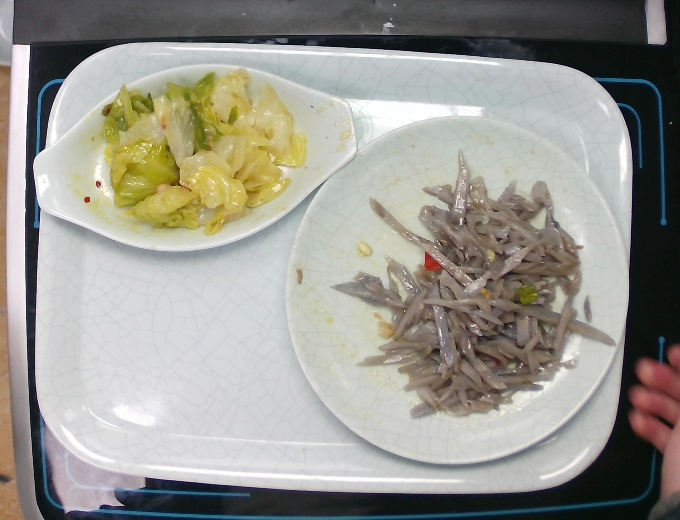JYsf-Da_Yuan_Pan: (280, 112, 633, 467)
JYsf-Yu_Pan: (30, 61, 360, 254)
